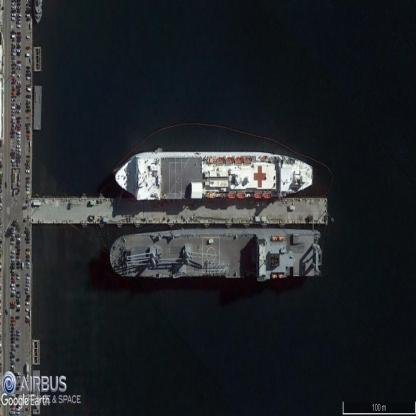ship: (110, 230, 324, 280), (115, 152, 312, 198)
